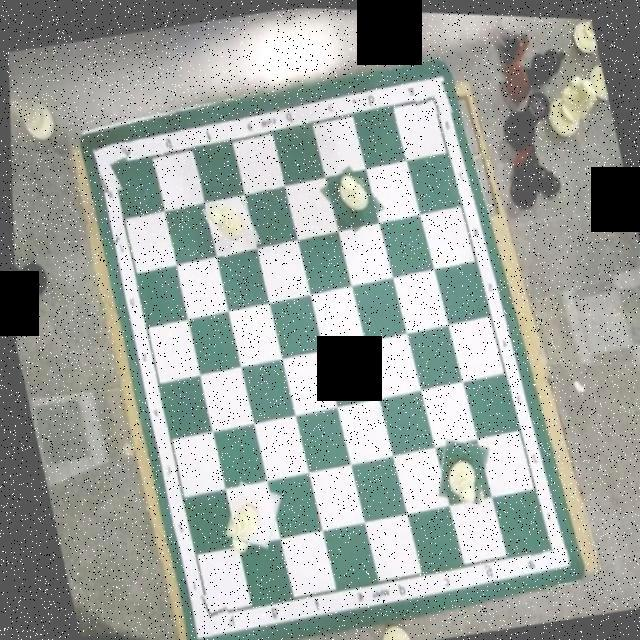chess-table-corners: (86, 137, 136, 195), (407, 73, 456, 118), (181, 586, 227, 631), (520, 527, 566, 563)
